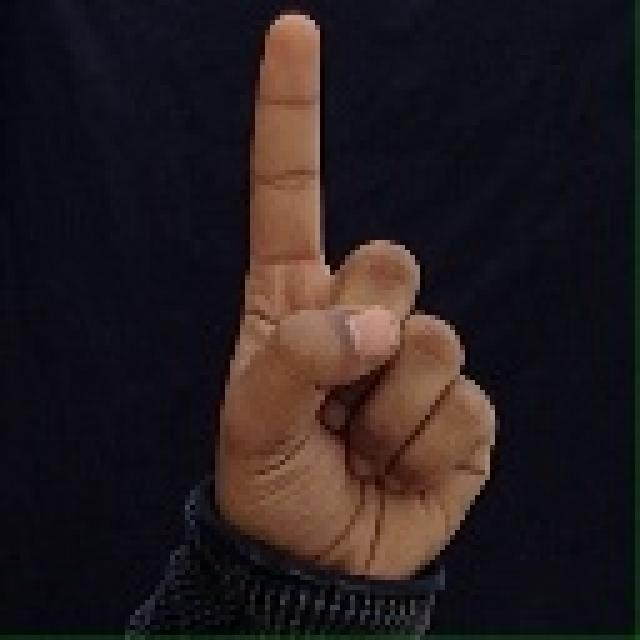Numeric-1: (212, 9, 499, 596)
